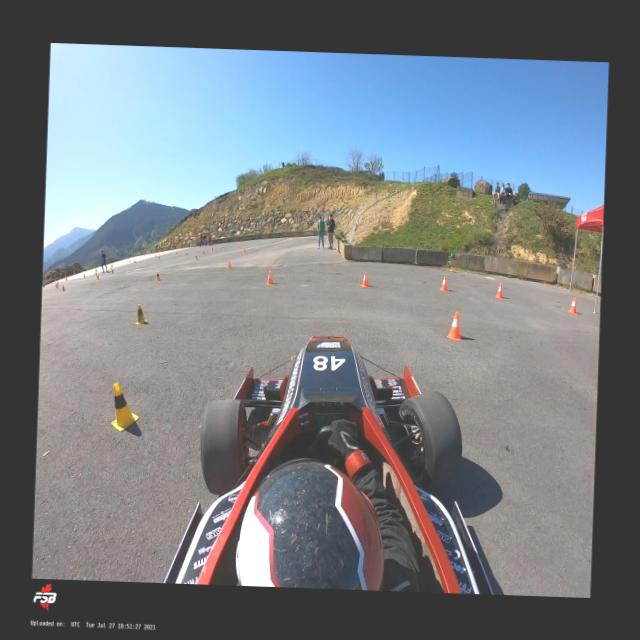orange_cone: (446, 311, 463, 341), (568, 296, 578, 314), (494, 281, 504, 298), (360, 272, 370, 288), (439, 276, 448, 292), (266, 270, 273, 284), (227, 258, 232, 268), (243, 246, 246, 254), (210, 247, 213, 250), (237, 245, 240, 248), (56, 285, 58, 289), (128, 259, 130, 263), (175, 252, 178, 254), (154, 254, 156, 257), (83, 274, 85, 276)
yellow_cone: (110, 382, 139, 431), (135, 304, 147, 324), (155, 271, 161, 281), (194, 253, 198, 260), (62, 286, 65, 291), (202, 251, 205, 255), (158, 256, 160, 260), (97, 276, 99, 279), (95, 272, 97, 275), (134, 260, 136, 263), (185, 253, 187, 256), (55, 282, 56, 288), (65, 278, 67, 280), (111, 270, 113, 272)
